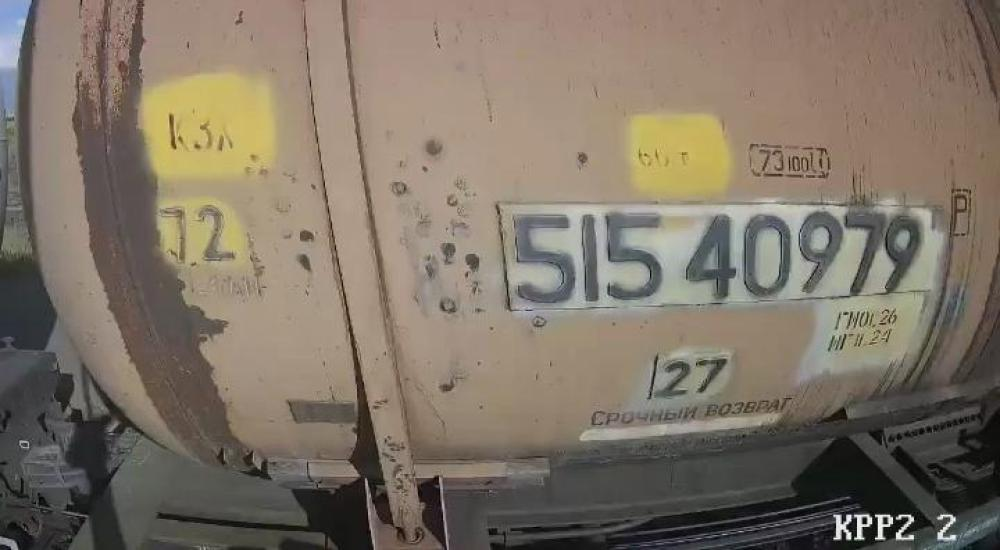Wagon-number: (504, 204, 928, 308)
